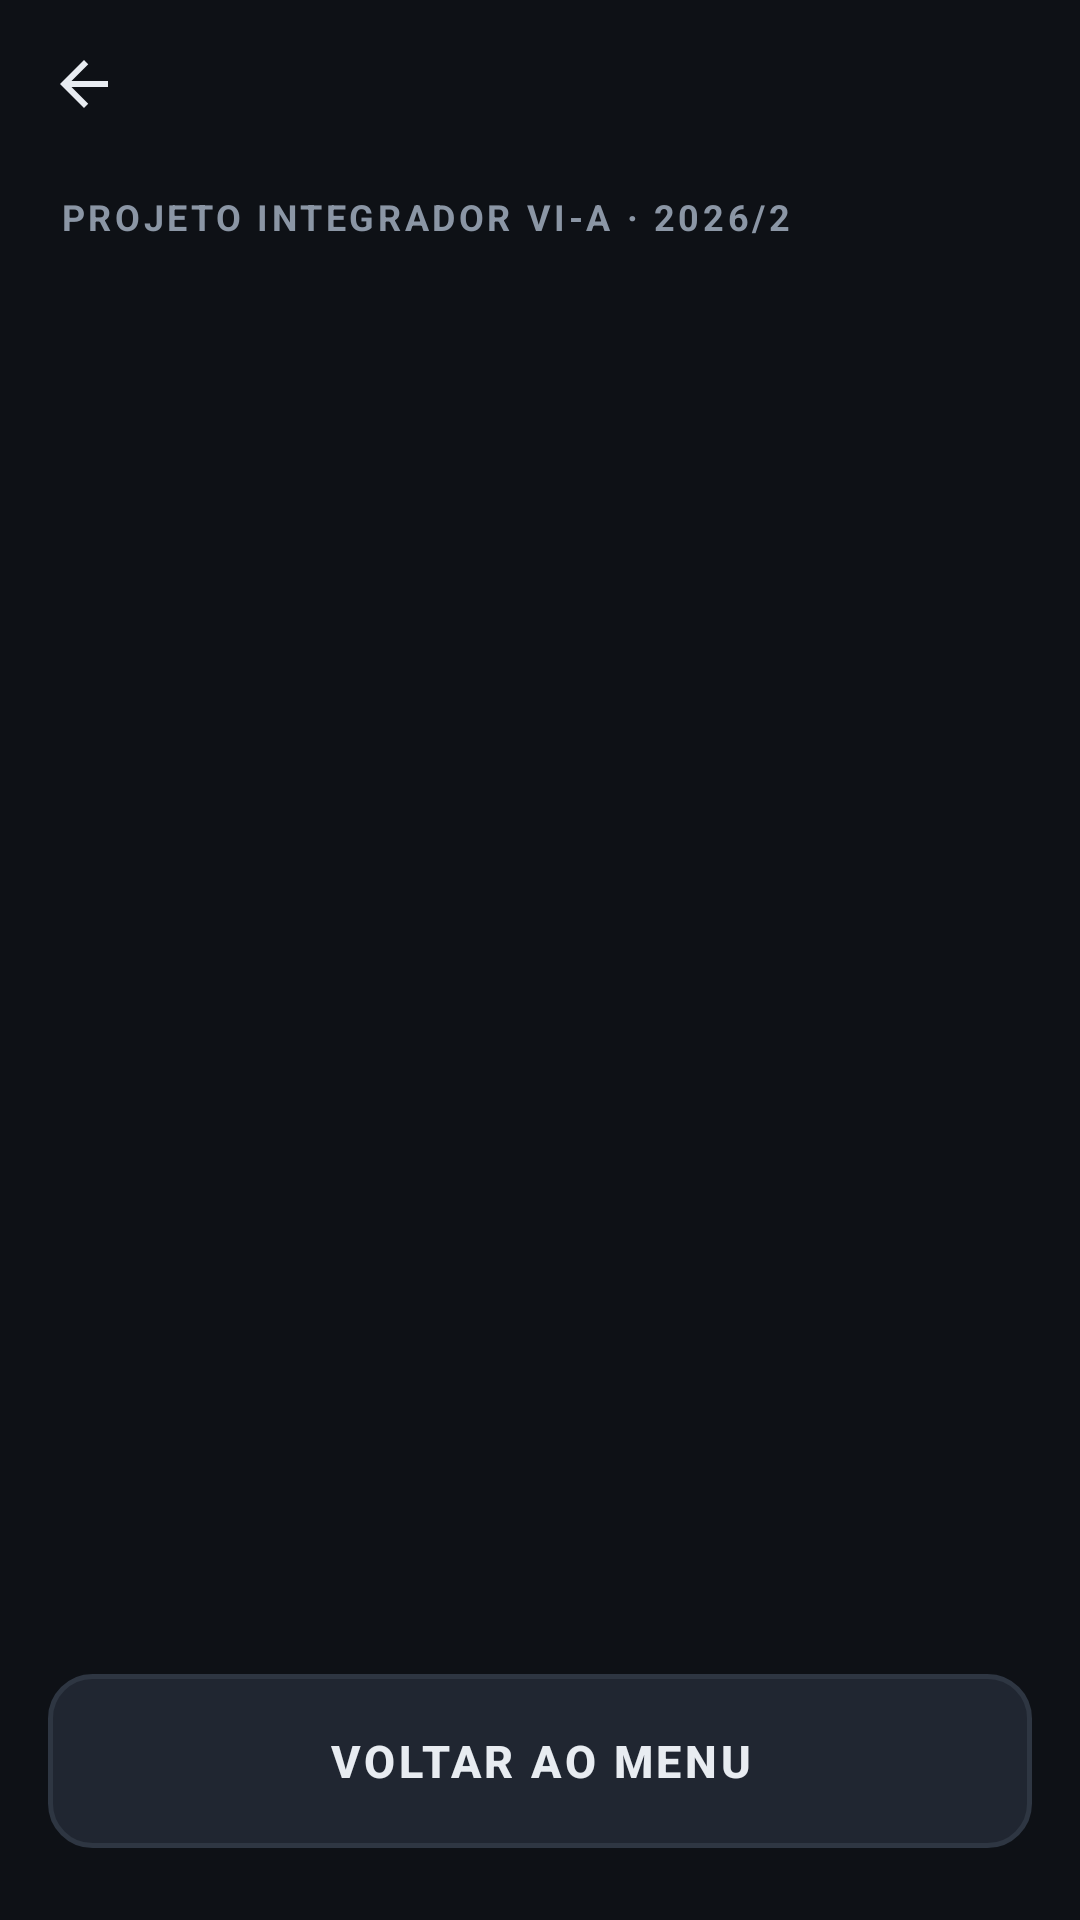

Named icons in this screenshot (1080 x 1920) and their centers, (x,y):
Voltar: (84,84)
